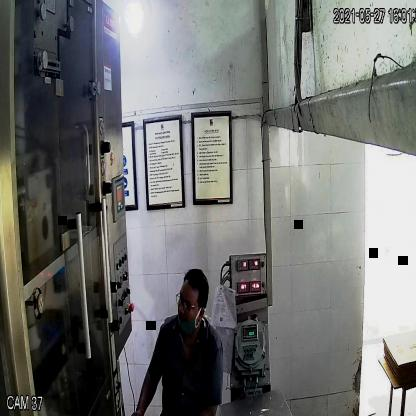goggles: (170, 286, 206, 315)
